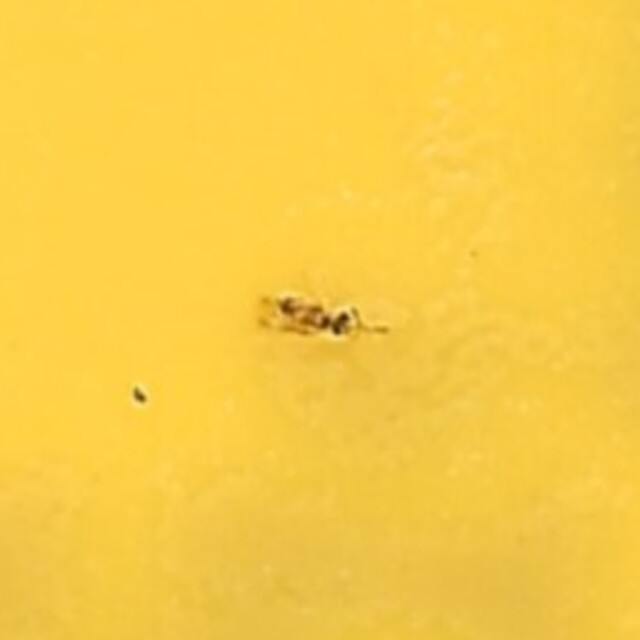Hymenoptera: (250, 283, 390, 357)
